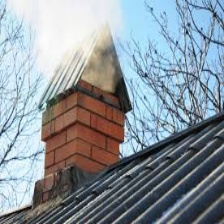smoke: (19, 1, 131, 82)
